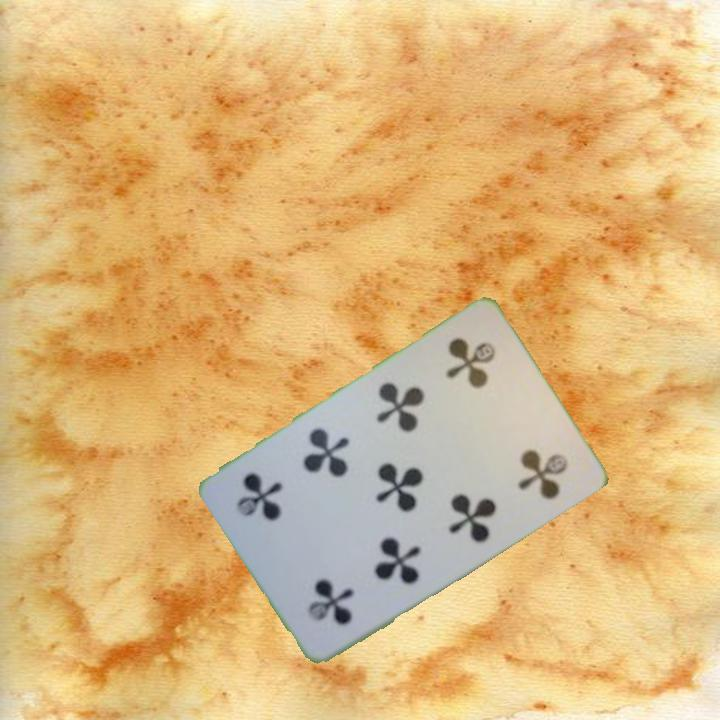c_9.png: (266, 521, 390, 650), (413, 314, 537, 442)
